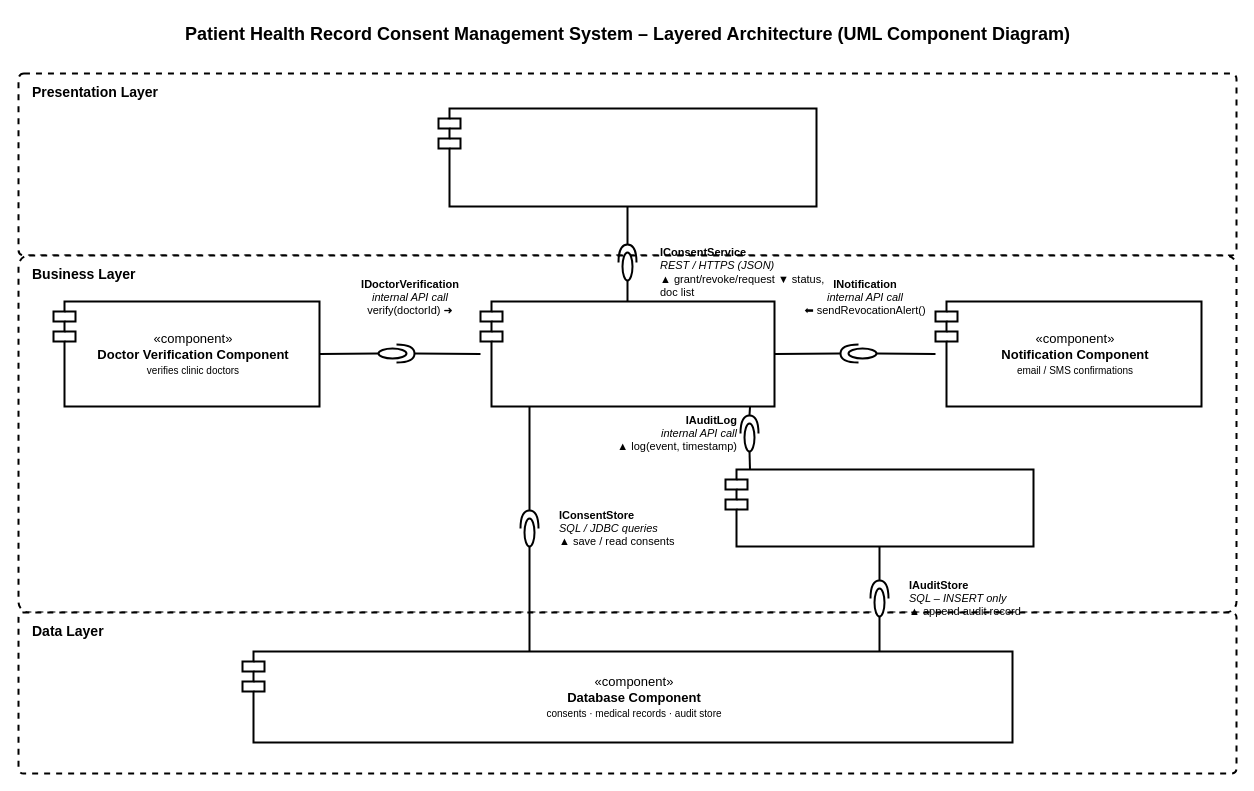
Image size: 1254x791. Some labels were removed from this diagram. Each missing label, with the centre of its shape:
"«component» Audit Trail Component append-only event logging" belongs at point 879,507.
"«component» Consent Manager Component grant · revoke · expiry · request access" belongs at point 627,353.
"«component» User Interface Component Patient & Doctor portal (touch/web)" belongs at point 627,157.
